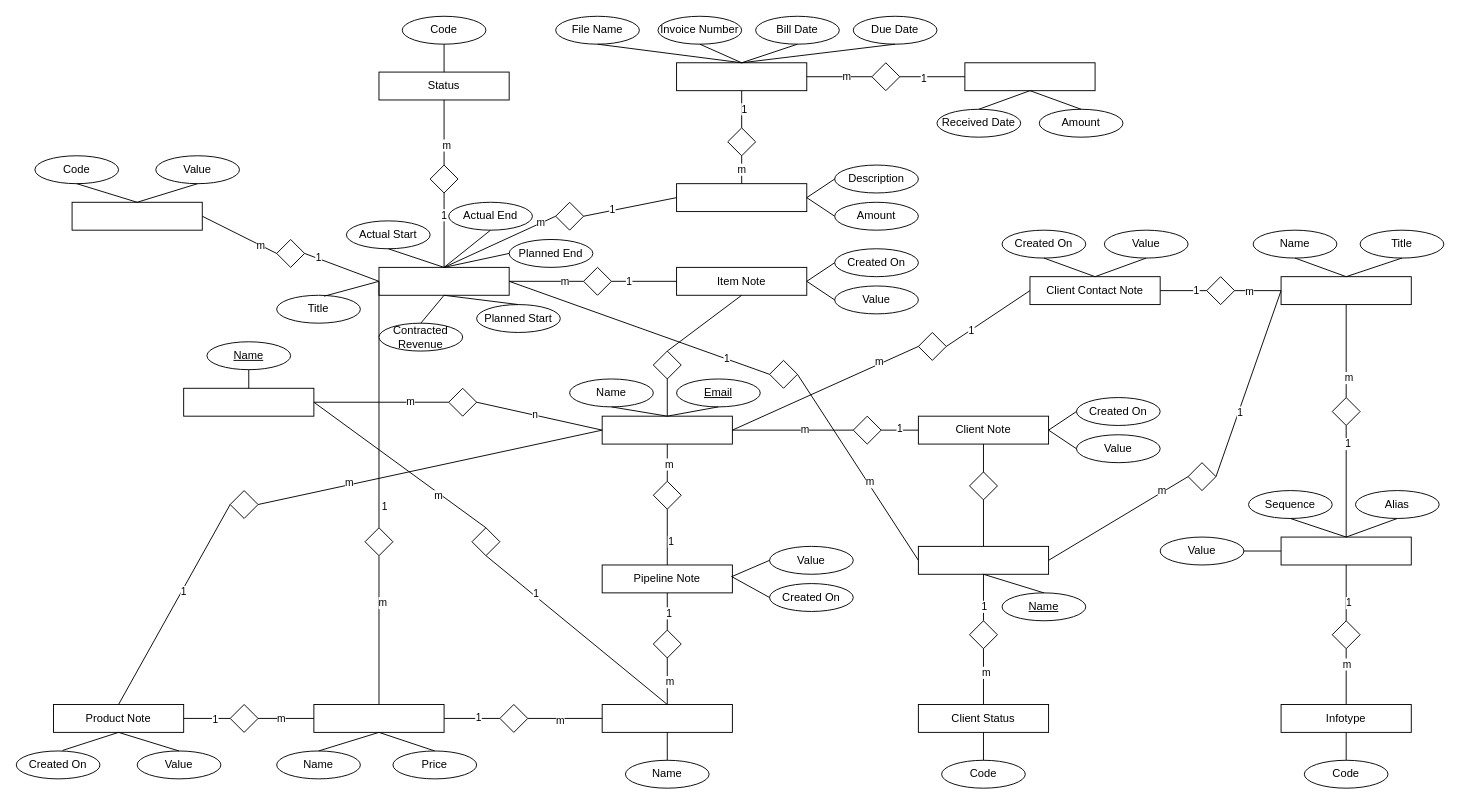
This 1460x804 diagram has some shape labels left out. Here are the shapes that lost their labels. From the top down, the box of each, then its label:
(676, 62, 807, 91): Invoice
(964, 62, 1095, 91): Receipt
(71, 201, 202, 230): Completion
(676, 183, 807, 212): Invoice Item
(378, 266, 509, 295): Item
(1280, 276, 1411, 305): Client Contact
(183, 387, 314, 416): Team
(601, 415, 732, 444): Member
(917, 545, 1049, 574): Client
(1280, 536, 1411, 565): Info
(313, 704, 444, 732): Product
(601, 704, 732, 732): Pipeline
